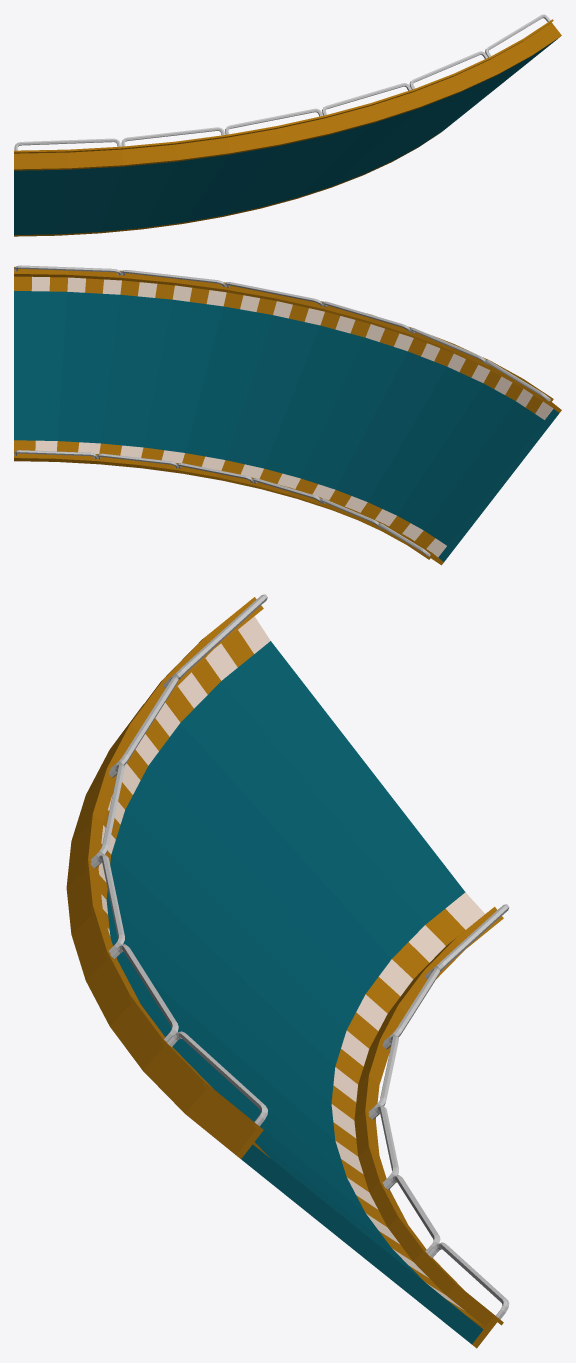
The model's file is bankedLeft-60-45_l.FBX.
3 views of the same model, one above another, from view 1: azimuth 30°, elevation 25°; view 2: azimuth 150°, elevation 25°; view 3: azimuth 270°, elevation 25° (orthographic). The views are drawn at different scales.
Parts seen in each view (by area): view 1: bankedLeft-60-45_l, wall_r, wall_l; view 2: bankedLeft-60-45_l, curbs_r, wall_r, curbs_l, wall_l; view 3: bankedLeft-60-45_l, wall_r, wall_l, curbs_l, curbs_r.
Part boxes in pixels (left/top/right/bottom): bankedLeft-60-45_l: left=14, top=39, right=557, bottom=235; wall_r: left=14, top=14, right=561, bottom=170; wall_l: left=14, top=131, right=442, bottom=236; bankedLeft-60-45_l: left=14, top=291, right=559, bottom=561; curbs_r: left=14, top=276, right=553, bottom=419; wall_r: left=14, top=265, right=561, bottom=412; curbs_l: left=14, top=440, right=446, bottom=557; wall_l: left=14, top=450, right=443, bottom=565; bankedLeft-60-45_l: left=106, top=641, right=483, bottom=1344; wall_r: left=66, top=594, right=267, bottom=1158; wall_l: left=354, top=904, right=509, bottom=1348; curbs_l: left=331, top=892, right=485, bottom=1329; curbs_r: left=98, top=616, right=270, bottom=1157.
Size of what is drawn, in the model's own units: 644 by 163 by 225.
